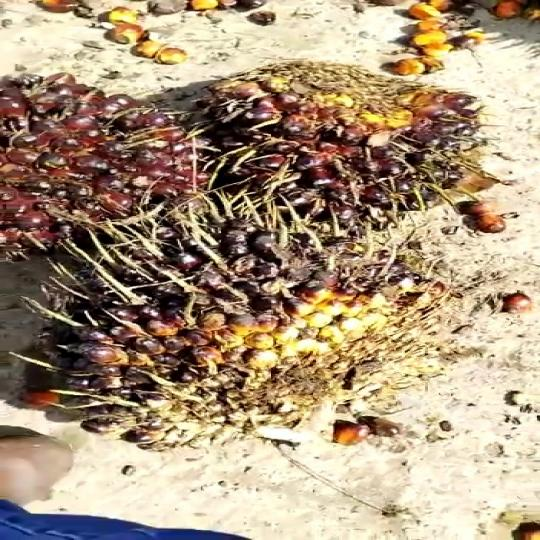kurang masak: (23, 205, 449, 468), (173, 64, 469, 237), (0, 73, 172, 253)
